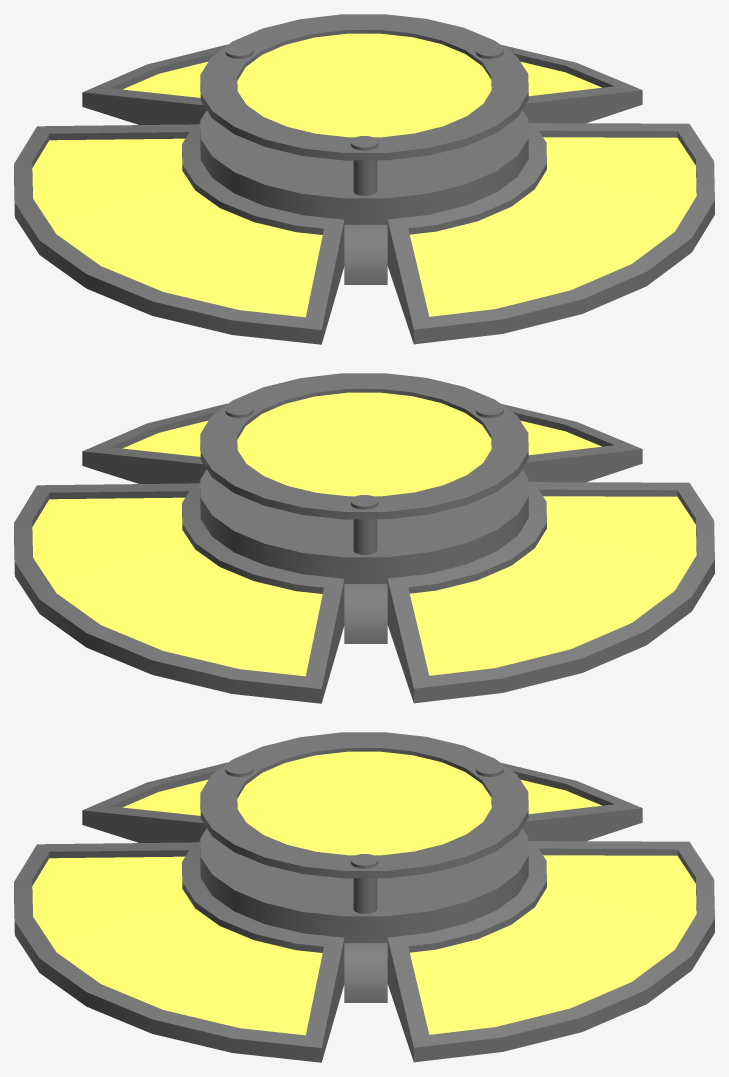
Rendered from DEFENSE_Pieges_1_PiegeElectriqueTest.fbx.
3 views of the same model, one above another, from view 1: azimuth 30°, elevation 25°; view 2: azimuth 150°, elevation 25°; view 3: azimuth 270°, elevation 25° (orthographic).
Parts seen in each view (by area): view 1: Base, Piston; view 2: Base, Piston; view 3: Base, Piston.
Part boxes in pixels (x1,y1,x2,y2): Base: [14, 44, 714, 344]; Piston: [200, 14, 528, 195]; Base: [14, 403, 714, 703]; Piston: [200, 373, 528, 554]; Base: [14, 762, 714, 1062]; Piston: [200, 732, 528, 913].
Bounding box in the file's own units: 248 × 45.34 × 248.
